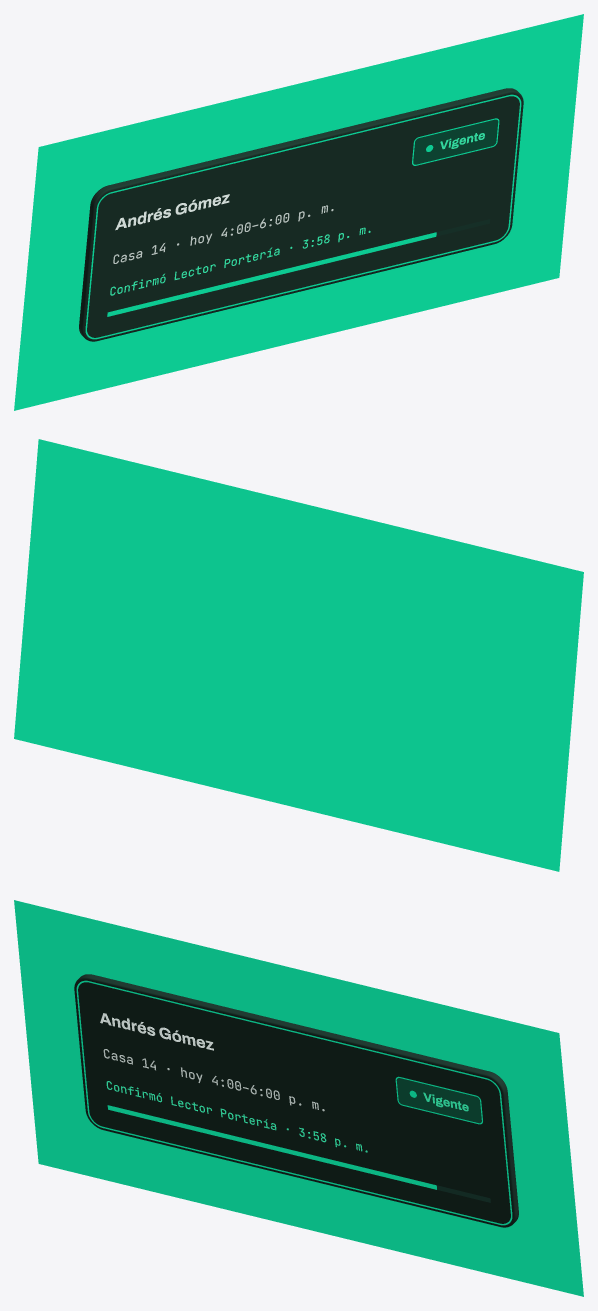
File: pase-3d-objeto.glb
3 views of the same model, one above another, from view 1: azimuth 30°, elevation 25°; view 2: azimuth 150°, elevation 25°; view 3: azimuth 330°, elevation 25° (orthographic).
Parts seen in each view (by area): view 1: resplandor, tarjeta, borde, chip-vigente-fondo, barra, nota-confirmo, quien, dato-vigente; view 2: resplandor; view 3: resplandor, tarjeta, borde, chip-vigente-fondo, barra, nota-confirmo, quien, dato-vigente.
Boxes of the visible parts, box(x1,y1,x2,y2) form: resplandor: box(14, 14, 583, 410); tarjeta: box(79, 88, 523, 341); borde: box(85, 94, 521, 339); chip-vigente-fondo: box(412, 118, 498, 164); barra: box(107, 232, 436, 316); nota-confirmo: box(110, 227, 370, 295); quien: box(115, 194, 229, 230); dato-vigente: box(113, 205, 333, 263); resplandor: box(14, 439, 583, 871); resplandor: box(14, 900, 583, 1296); tarjeta: box(74, 974, 518, 1227); borde: box(76, 980, 512, 1225); chip-vigente-fondo: box(396, 1076, 483, 1123); barra: box(107, 1105, 436, 1189); nota-confirmo: box(106, 1081, 367, 1152); quien: box(100, 1013, 213, 1050); dato-vigente: box(103, 1049, 324, 1111).
Size of what is drawn, in the model's own units: 4.4 by 2.17 by 0.3442.
12 materials, 1 textured.
